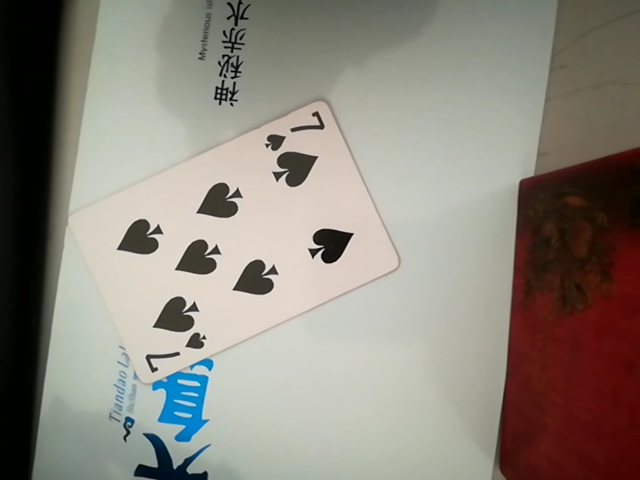ht 7: (72, 104, 407, 378)
